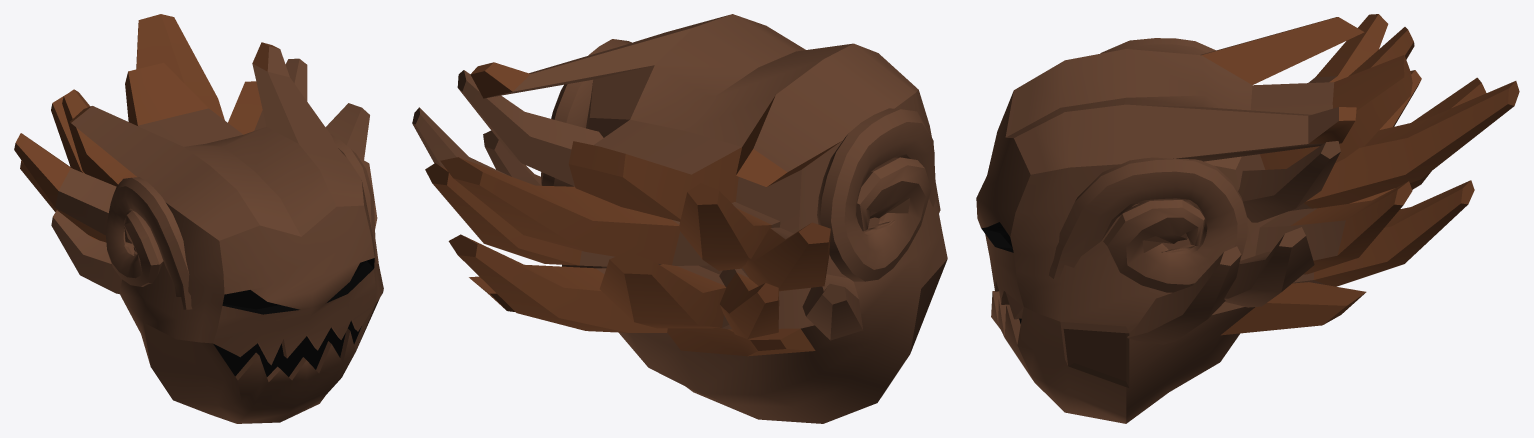
File: ENEMY.fbx
3 views of the same model, side by side, from view 1: azimuth 30°, elevation 25°; view 2: azimuth 150°, elevation 25°; view 3: azimuth 270°, elevation 25° (orthographic). The views are drawn at different scales.
Visible parts, largest first — view 1: pCube3; view 2: pCube3; view 3: pCube3.
Part boxes in pixels (box(x1,y1,x2,y2)): pCube3: box(14, 14, 383, 423); pCube3: box(412, 14, 947, 423); pCube3: box(976, 14, 1519, 423).
Bounding box in the file's own units: 3.35 × 2.82 × 3.85.
